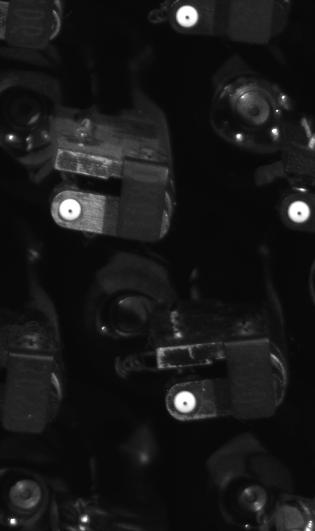fiber: (282, 194, 313, 230), (170, 1, 204, 29), (170, 388, 201, 418), (56, 195, 86, 224)
